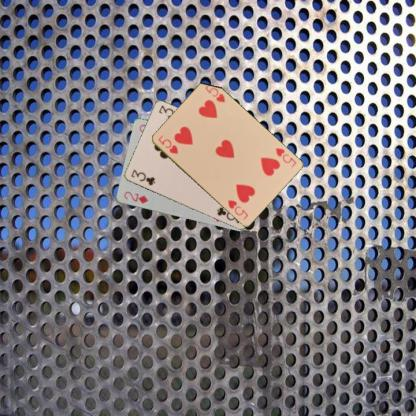2d: (121, 189, 149, 205)
3c: (128, 167, 156, 187)
5h: (273, 145, 297, 169), (155, 133, 180, 155)
